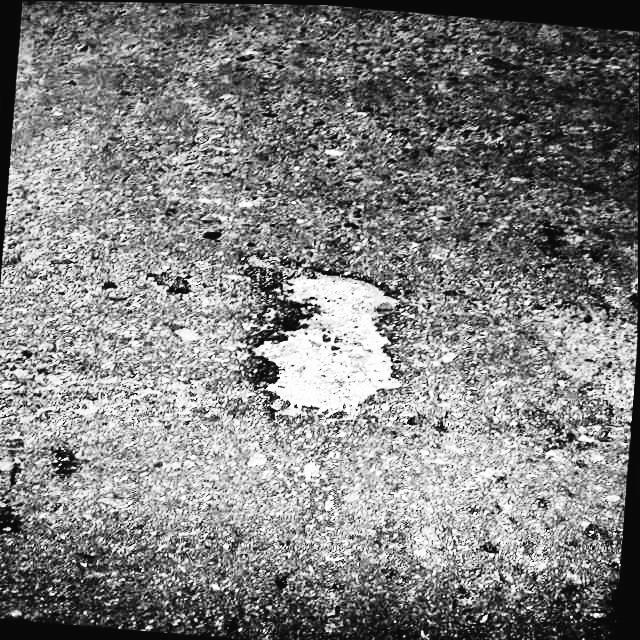Pothole: (271, 261, 386, 420)
